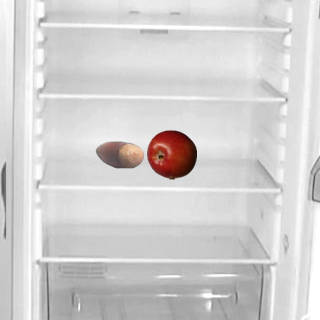Apple Braeburn: (146, 129, 196, 179)
Hazelnut: (94, 129, 144, 179)
